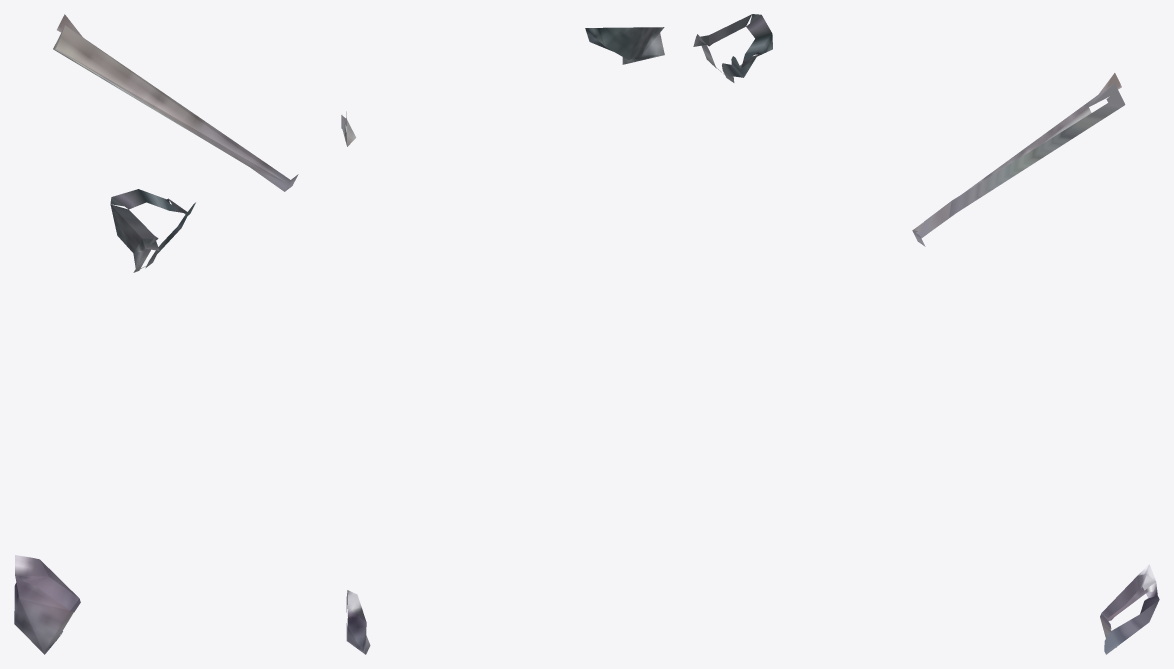
3 renders of one model, left to right at view 1: azimuth 30°, elevation 25°; view 2: azimuth 150°, elevation 25°; view 3: azimuth 270°, elevation 25°, orthographic. The views are drawn at different scales.
Bounding box in the file's own units: 9.1 × 19.66 × 14.16.
1 material, 1 textured.
